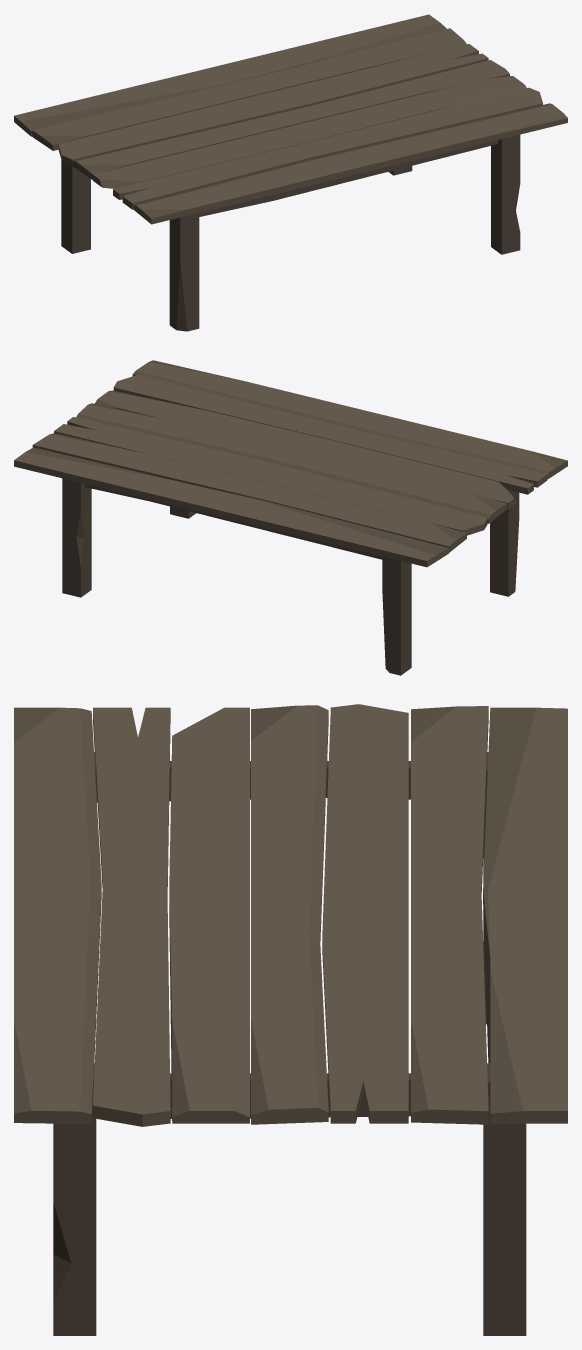
File: SM_Props_Farm_Table.fbx
3 renders of one model, top to bottom at view 1: azimuth 30°, elevation 25°; view 2: azimuth 150°, elevation 25°; view 3: azimuth 270°, elevation 25°, orthographic. The views are drawn at different scales.
Parts seen in each view (by area): view 1: SM_Props_Farm_Table; view 2: SM_Props_Farm_Table; view 3: SM_Props_Farm_Table.
Part boxes in pixels (x1,y1,x2,y2): SM_Props_Farm_Table: (14, 14, 567, 331); SM_Props_Farm_Table: (14, 360, 567, 675); SM_Props_Farm_Table: (14, 704, 567, 1335).
Bounding box in the file's own units: 316 × 94.73 × 180.
